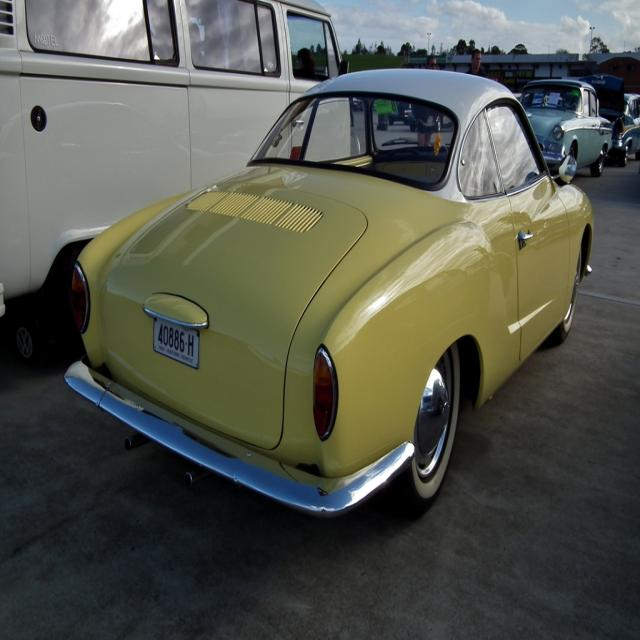car: (54, 59, 572, 522)
